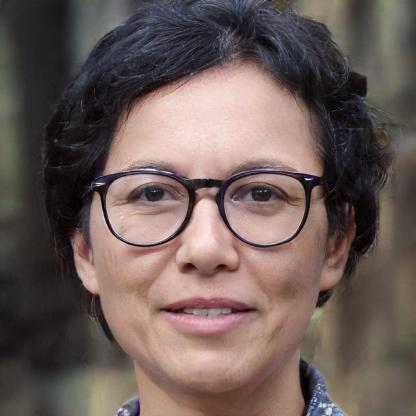glasses: (90, 165, 325, 253)
